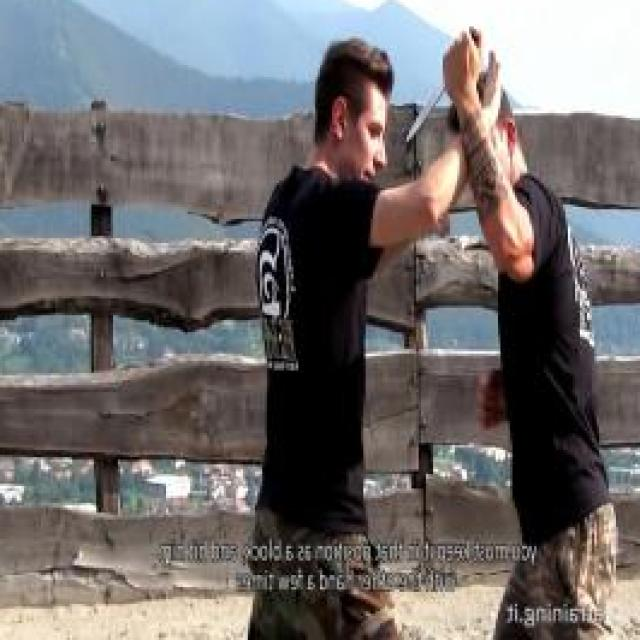knife: (402, 19, 486, 154)
